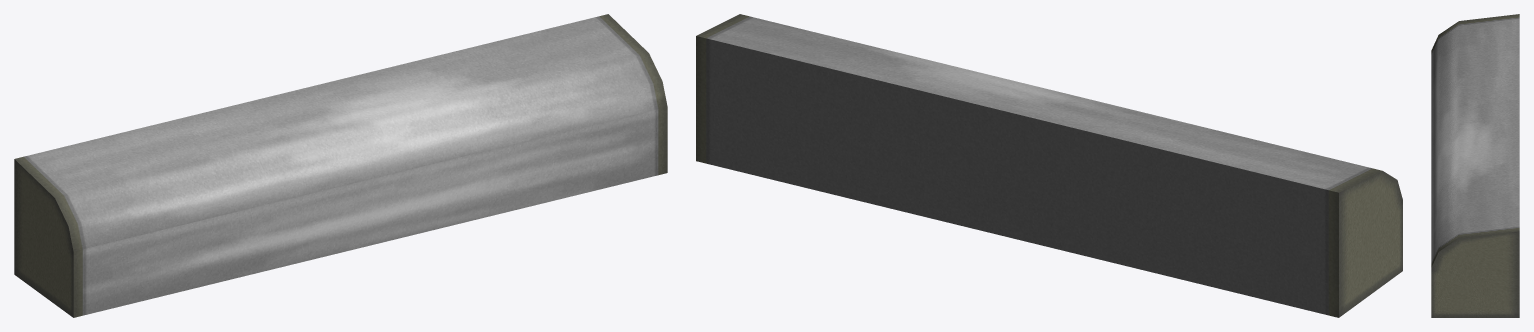
File: Light.FBX
3 renders of one model, left to right at view 1: azimuth 30°, elevation 25°; view 2: azimuth 150°, elevation 25°; view 3: azimuth 270°, elevation 25°, orthographic. The views are drawn at different scales.
Visible parts, largest first — view 1: Light001; view 2: Light001; view 3: Light001.
Boxes of the visible parts, left/top/right/bottom form: Light001: left=14, top=14, right=667, bottom=317; Light001: left=696, top=14, right=1402, bottom=317; Light001: left=1431, top=14, right=1519, bottom=317.
Bounding box in the file's own units: 128 × 23.8 × 22.03.
